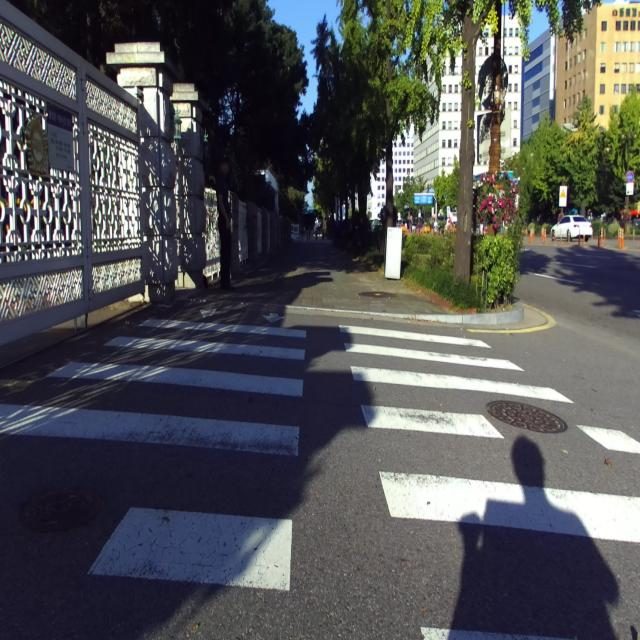횡단보도: (0, 308, 640, 640)
